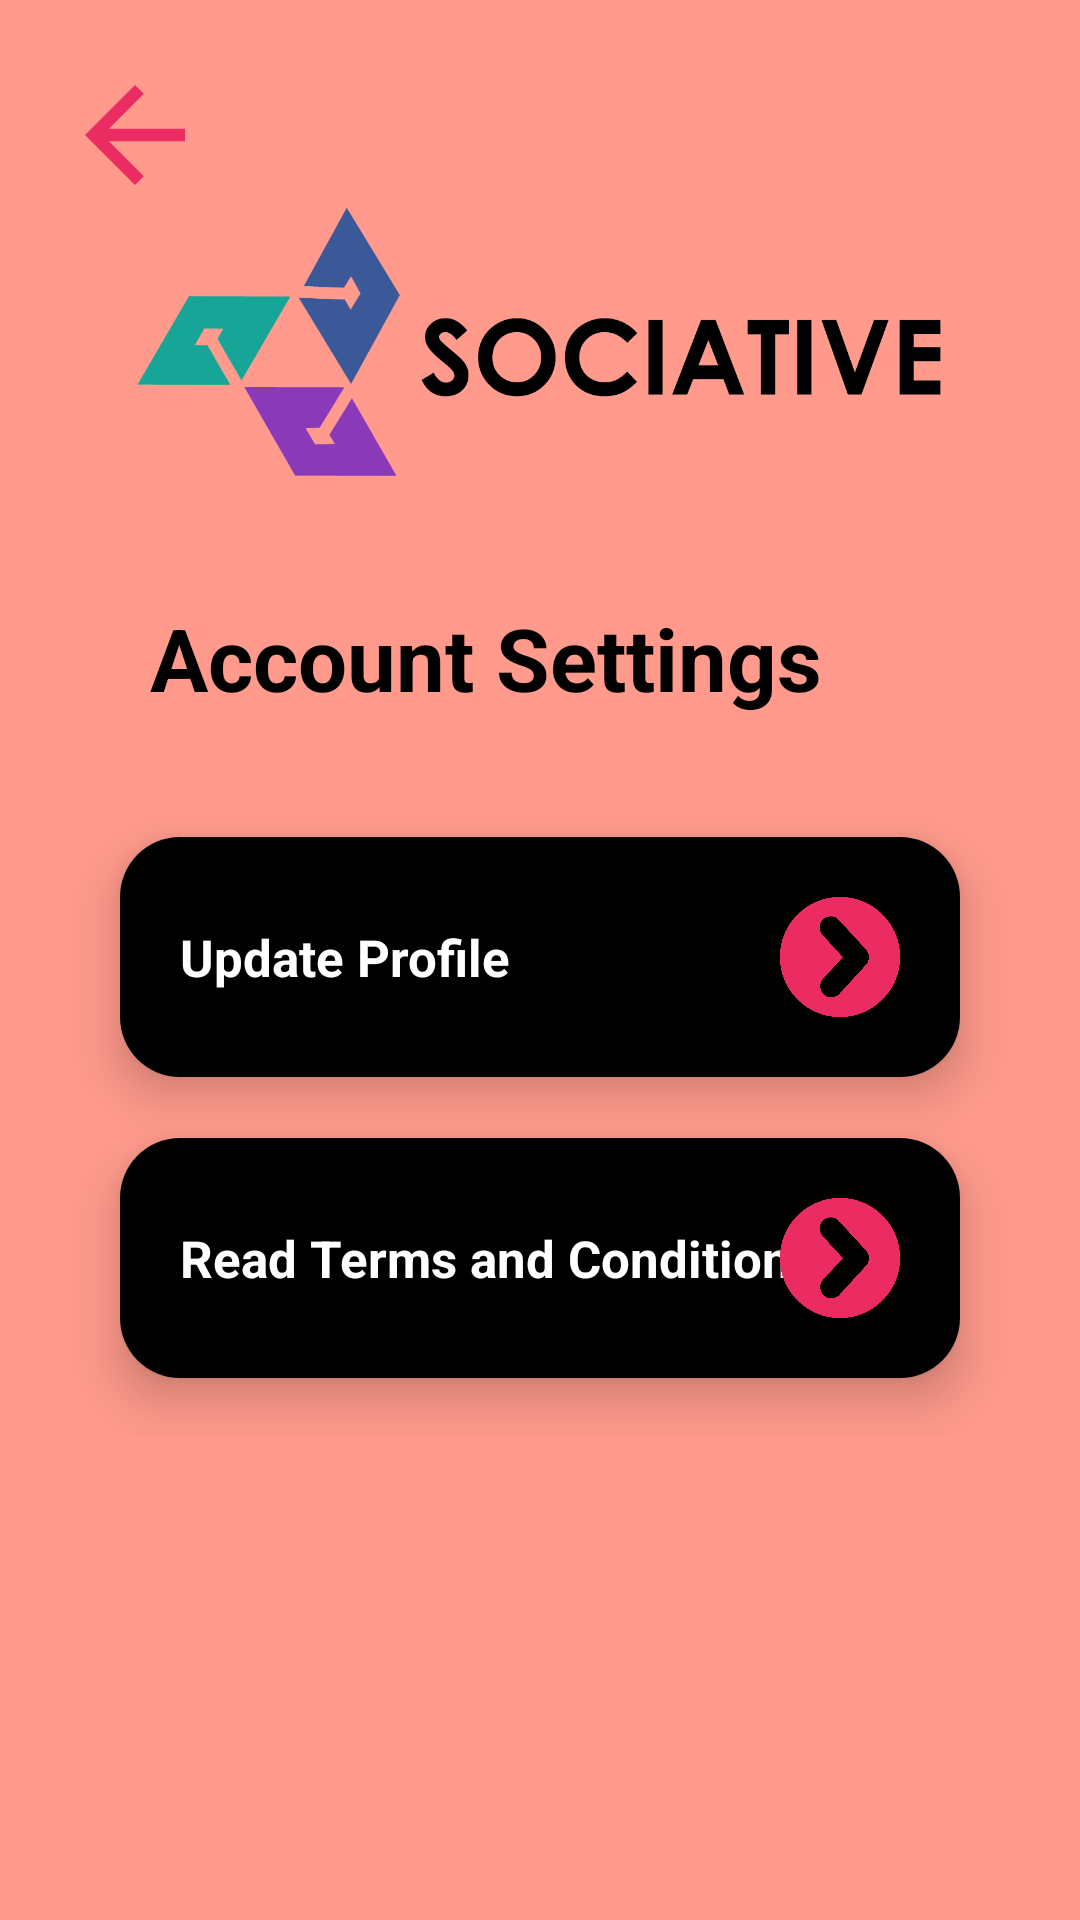

Icon click points for this 1080*1920 phone screenshot, format (x,y):
back arrow: (135,135)
forward: (840,957), (840,1258)
